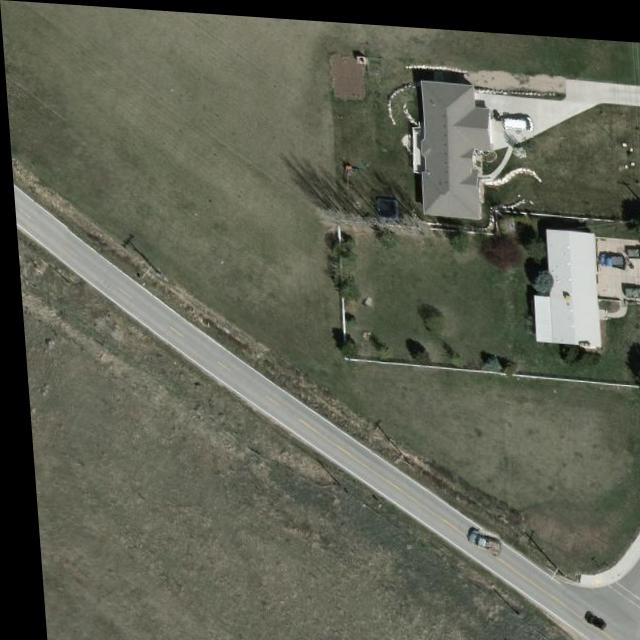vehicle: (459, 520, 497, 553), (498, 106, 535, 128), (593, 242, 627, 262), (573, 602, 599, 623), (624, 238, 640, 250)
